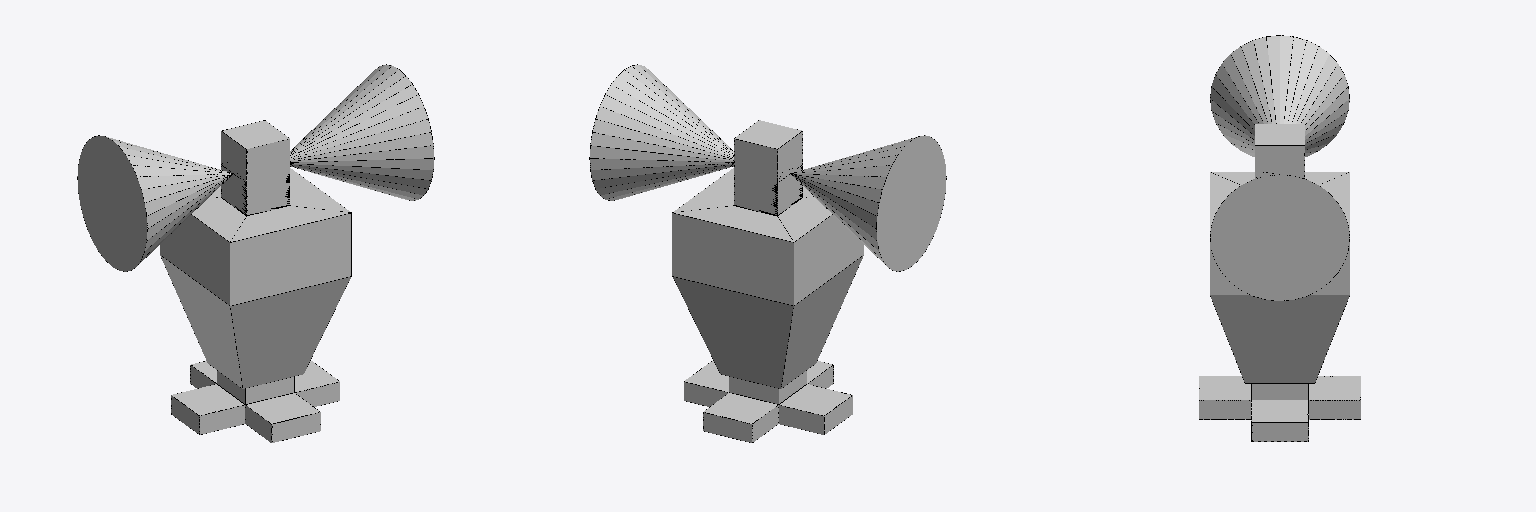
3 views of the same model, side by side, from view 1: azimuth 30°, elevation 25°; view 2: azimuth 150°, elevation 25°; view 3: azimuth 270°, elevation 25° (orthographic).
Parts seen in each view (by area): view 1: sound_trap_Cube; view 2: sound_trap_Cube; view 3: sound_trap_Cube.
Part boxes in pixels (bbox=[...]): sound_trap_Cube: bbox=[77, 64, 434, 442]; sound_trap_Cube: bbox=[589, 64, 946, 442]; sound_trap_Cube: bbox=[1199, 35, 1360, 441].
Size of the model in its own units: 1.89 by 1.9 by 0.9251.
1 materials, 1 textured.